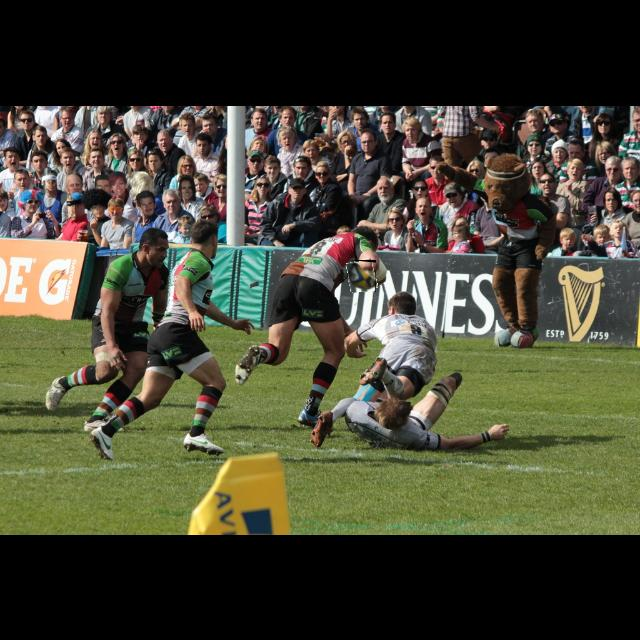Football: (348, 260, 376, 292)
